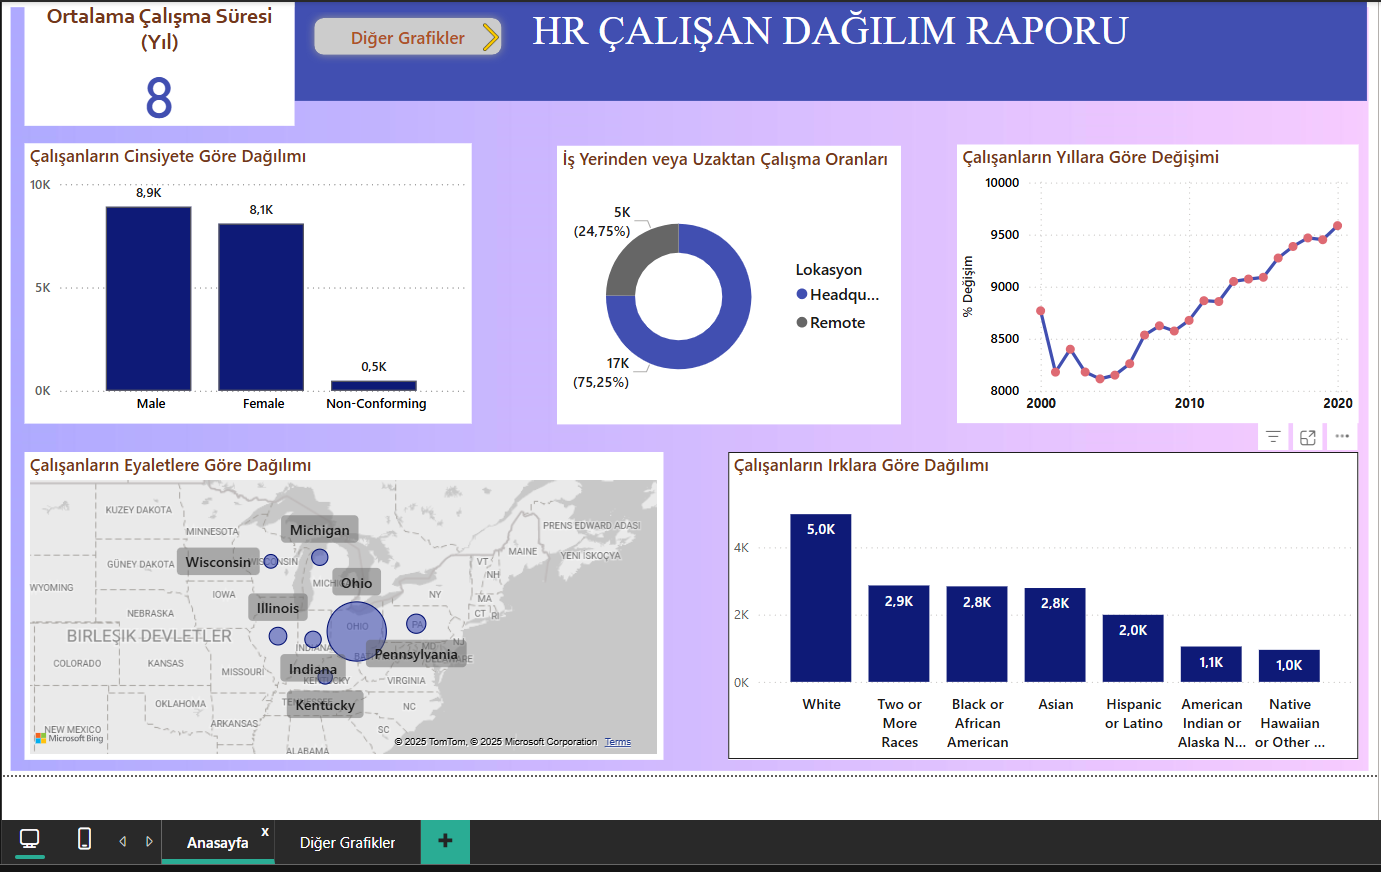

What the dashboard file says about the page in this screenshot:
{"tool":"powerbi","page":{"name":"Anasayfa","canvas":[1280,720],"ordinal":0},"visuals":[{"type":"image","box":[0,0,1279.8,720.2],"z":0},{"type":"textbox","box":[272.4,0,997.6,92],"z":1000},{"type":"card","title":"Ortalama Çalışma Süresi (Yıl)","fields":{"Values":["Sum(ort_görev_süresi.ortalama_çalışma_süresi)"]},"box":[20.9,0,251.2,115.1],"z":2000},{"type":"donutChart","title":"İş Yerinden veya Uzaktan Çalışma Oranları","fields":{"Category":["locationr.location"],"Y":["Sum(locationr.toplam)"]},"box":[516.3,133.7,319.8,259.3],"z":4000},{"type":"columnChart","title":"Çalışanların Cinsiyete Göre Dağılımı","fields":{"Category":["gender.gender"],"Y":["Sum(gender.toplam)"]},"box":[20.9,131.4,416.3,260.5],"z":4500},{"type":"lineChart","title":"Çalışanların Yıllara Göre Değişimi","fields":{"Category":["yıllı.yıl"],"Y":["Sum(yıllı.değişim_oranı)"]},"box":[888.4,132.6,373.3,259.3],"z":5000},{"type":"columnChart","title":"Çalışanların Irklara Göre Dağılımı","fields":{"Category":["race.race"],"Y":["Sum(race.toplam)"]},"box":[675.6,418.6,586,286],"z":6000},{"type":"map","title":"Çalışanların Eyaletlere Göre Dağılımı","fields":{"Category":["state.location_state"],"Size":["Sum(state.toplam)"]},"box":[20.9,418.6,594.2,286],"z":7000},{"type":"pageNavigator","box":[282.2,7.4,190.2,50.3],"z":8000},{"type":"image","box":[436.8,12.3,35.6,39.3],"z":9000}]}

Visuals, with their boxes on the page's 1280x720 design canvas (x1, y1, x2, y2). These are canvas units, not pixel positions in the 1381x872 screenshot, which may show the page scaled, cropped or inside an application window:
image: pyautogui.locateOnScreen(0, 0, 1280, 720)
textbox: pyautogui.locateOnScreen(272, 0, 1270, 92)
"Ortalama Çalışma Süresi (Yıl)" card: pyautogui.locateOnScreen(21, 0, 272, 115)
"İş Yerinden veya Uzaktan Çalışma Oranları" donutChart: pyautogui.locateOnScreen(516, 134, 836, 393)
"Çalışanların Cinsiyete Göre Dağılımı" columnChart: pyautogui.locateOnScreen(21, 131, 437, 392)
"Çalışanların Yıllara Göre Değişimi" lineChart: pyautogui.locateOnScreen(888, 133, 1262, 392)
"Çalışanların Irklara Göre Dağılımı" columnChart: pyautogui.locateOnScreen(676, 419, 1262, 705)
"Çalışanların Eyaletlere Göre Dağılımı" map: pyautogui.locateOnScreen(21, 419, 615, 705)
pageNavigator: pyautogui.locateOnScreen(282, 7, 472, 58)
image: pyautogui.locateOnScreen(437, 12, 472, 52)
